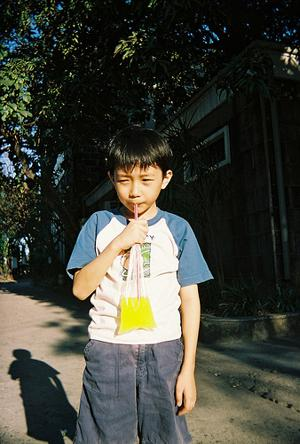person: (65, 129, 215, 444)
